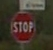stop: (8, 10, 36, 43)
